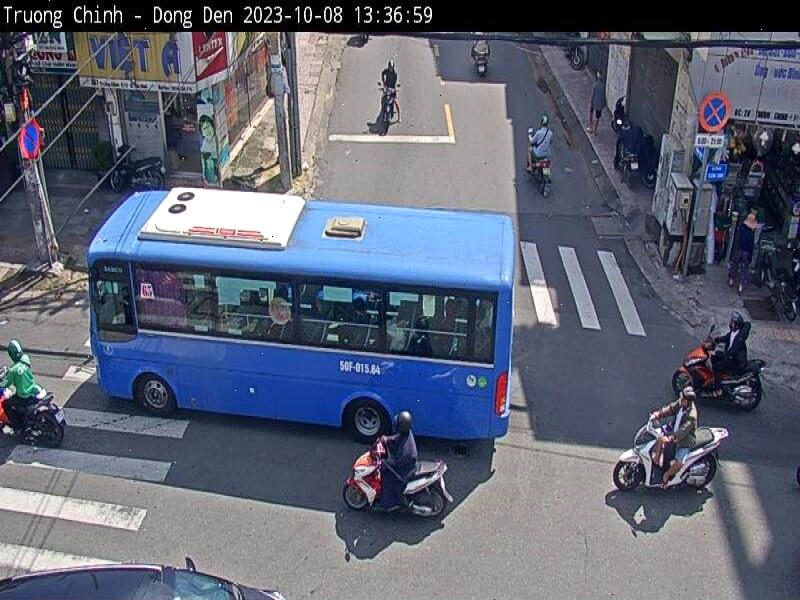bus: (66, 160, 546, 455)
car: (2, 530, 298, 600)
motorcycle: (587, 406, 759, 517), (339, 442, 455, 546), (659, 333, 781, 430), (0, 378, 73, 464)
